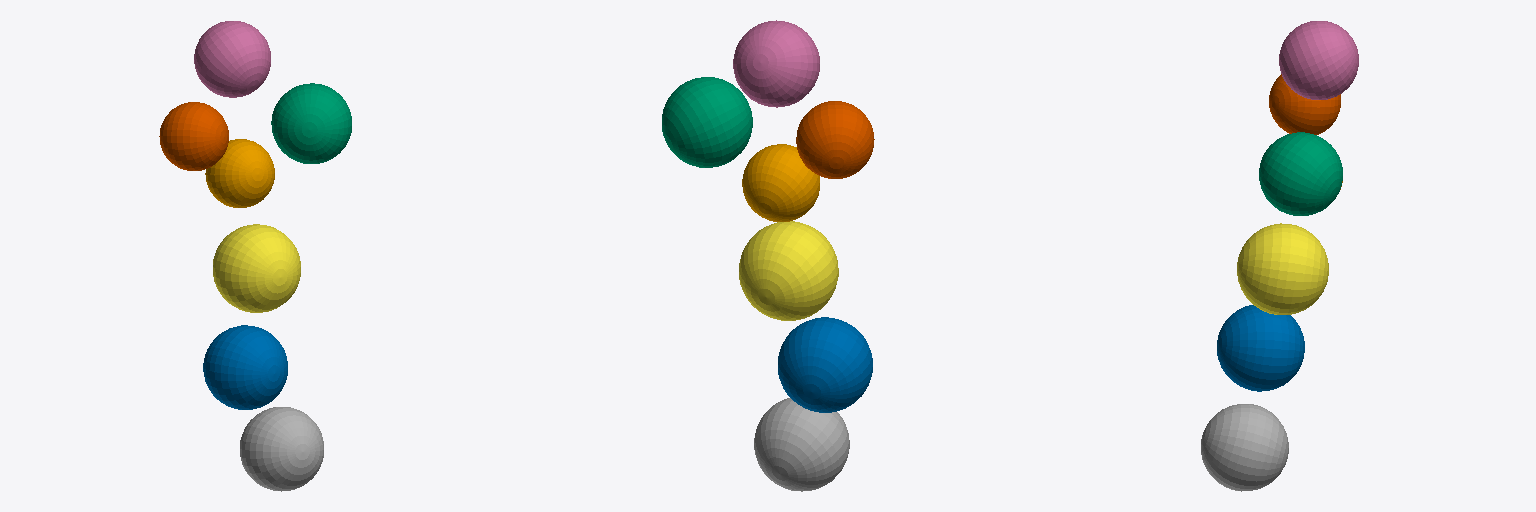
URDF robot description (link5):
<?xml version="1.0" ?>
<!-- =================================================================================== -->
<!-- |    This document was autogenerated by xacro from link5_2.xacro                  | -->
<!-- |    EDITING THIS FILE BY HAND IS NOT RECOMMENDED                                 | -->
<!-- =================================================================================== -->
<robot name="link5">
  <!-- [m] -->
  <link name="calibration_link5/base_link"/>
  <joint name="calibration_link5/base_joint" type="fixed">
    <origin rpy="0 0 0" xyz="0 0 0"/>
    <parent link="calibration_link5/base_link"/>
    <child link="calibration_link5/base_link_inertia"/>
  </joint>
  <link name="calibration_link5/base_link_inertia">
    <visual>
      <origin rpy="0 0 0" xyz="0 0 0"/>
      <geometry>
        <mesh filename="https://cdn.jsdelivr.net/gh/cKohl10/gentact_ros_tools@main/meshes/link5_2.stl" scale="1 1 1"/>
      </geometry>
    </visual>
  </link>
  <joint name="calibration_link5/sensor_0_joint" type="fixed">
    <origin rpy="1.856 -0.000 2.558" xyz="0.034 0.127 -0.019"/>
    <axis xyz="0.529 0.801 -0.281"/>
    <parent link="calibration_link5/base_link"/>
    <child link="calibration_link5/sensor_0"/>
  </joint>
  <link name="calibration_link5/sensor_0">
    <visual>
      <geometry>
        <sphere radius="0.021"/>
        <!-- [m] -->
      </geometry>
    </visual>
    <collision>
      <geometry>
        <sphere radius="0.021"/>
        <!-- [m] -->
      </geometry>
    </collision>
  </link>
  <joint name="calibration_link5/sensor_1_joint" type="fixed">
    <origin rpy="-1.403 3.142 0.049" xyz="-0.004 0.118 -0.089"/>
    <axis xyz="-0.049 0.985 -0.167"/>
    <parent link="calibration_link5/base_link"/>
    <child link="calibration_link5/sensor_1"/>
  </joint>
  <link name="calibration_link5/sensor_1">
    <visual>
      <geometry>
        <sphere radius="0.023"/>
        <!-- [m] -->
      </geometry>
    </visual>
    <collision>
      <geometry>
        <sphere radius="0.023"/>
        <!-- [m] -->
      </geometry>
    </collision>
  </link>
  <joint name="calibration_link5/sensor_2_joint" type="fixed">
    <origin rpy="1.754 0.000 -2.905" xyz="-0.017 0.107 -0.138"/>
    <axis xyz="-0.23 0.956 -0.182"/>
    <parent link="calibration_link5/base_link"/>
    <child link="calibration_link5/sensor_2"/>
  </joint>
  <link name="calibration_link5/sensor_2">
    <visual>
      <geometry>
        <sphere radius="0.022"/>
        <!-- [m] -->
      </geometry>
    </visual>
    <collision>
      <geometry>
        <sphere radius="0.022"/>
        <!-- [m] -->
      </geometry>
    </collision>
  </link>
  <joint name="calibration_link5/sensor_3_joint" type="fixed">
    <origin rpy="1.772 -0.000 -2.583" xyz="-0.035 0.129 -0.011"/>
    <axis xyz="-0.519 0.831 -0.2"/>
    <parent link="calibration_link5/base_link"/>
    <child link="calibration_link5/sensor_3"/>
  </joint>
  <link name="calibration_link5/sensor_3">
    <visual>
      <geometry>
        <sphere radius="0.018"/>
        <!-- [m] -->
      </geometry>
    </visual>
    <collision>
      <geometry>
        <sphere radius="0.018"/>
        <!-- [m] -->
      </geometry>
    </collision>
  </link>
  <joint name="calibration_link5/sensor_4_joint" type="fixed">
    <origin rpy="1.135 -0.000 -3.039" xyz="-0.008 0.136 0.024"/>
    <axis xyz="-0.093 0.902 0.423"/>
    <parent link="calibration_link5/base_link"/>
    <child link="calibration_link5/sensor_4"/>
  </joint>
  <link name="calibration_link5/sensor_4">
    <visual>
      <geometry>
        <sphere radius="0.02"/>
        <!-- [m] -->
      </geometry>
    </visual>
    <collision>
      <geometry>
        <sphere radius="0.02"/>
        <!-- [m] -->
      </geometry>
    </collision>
  </link>
  <joint name="calibration_link5/sensor_5_joint" type="fixed">
    <origin rpy="-1.262 3.142 0.019" xyz="-0.000 0.099 -0.185"/>
    <axis xyz="-0.018 0.952 -0.304"/>
    <parent link="calibration_link5/base_link"/>
    <child link="calibration_link5/sensor_5"/>
  </joint>
  <link name="calibration_link5/sensor_5">
    <visual>
      <geometry>
        <sphere radius="0.022"/>
        <!-- [m] -->
      </geometry>
    </visual>
    <collision>
      <geometry>
        <sphere radius="0.022"/>
        <!-- [m] -->
      </geometry>
    </collision>
  </link>
  <joint name="calibration_link5/sensor_6_joint" type="fixed">
    <origin rpy="-1.229 3.142 0.054" xyz="-0.007 0.130 -0.039"/>
    <axis xyz="-0.051 0.941 -0.335"/>
    <parent link="calibration_link5/base_link"/>
    <child link="calibration_link5/sensor_6"/>
  </joint>
  <link name="calibration_link5/sensor_6">
    <visual>
      <geometry>
        <sphere radius="0.018"/>
        <!-- [m] -->
      </geometry>
    </visual>
    <collision>
      <geometry>
        <sphere radius="0.018"/>
        <!-- [m] -->
      </geometry>
    </collision>
  </link>
</robot>

--- Render facts (derived) ---
3 views of the same robot in one strip: view 1: azimuth 30°, elevation 25°; view 2: azimuth 150°, elevation 25°; view 3: azimuth 270°, elevation 25° (orthographic).
Robot: link5 — 9 links, 8 joints (8 fixed); root link calibration_link5/base_link; default pose: all joints at 0.
Links seen in each view (by area): view 1: calibration_link5/sensor_1, calibration_link5/sensor_2, calibration_link5/sensor_5, calibration_link5/sensor_0, calibration_link5/sensor_4, calibration_link5/sensor_3, calibration_link5/sensor_6; view 2: calibration_link5/sensor_1, calibration_link5/sensor_2, calibration_link5/sensor_5, calibration_link5/sensor_0, calibration_link5/sensor_4, calibration_link5/sensor_3, calibration_link5/sensor_6; view 3: calibration_link5/sensor_1, calibration_link5/sensor_5, calibration_link5/sensor_2, calibration_link5/sensor_0, calibration_link5/sensor_4, calibration_link5/sensor_3.
Boxes of the visible links, x1,y1,x2,y2 form: calibration_link5/sensor_1: (213,224,300,312); calibration_link5/sensor_2: (203,325,287,409); calibration_link5/sensor_5: (240,407,323,491); calibration_link5/sensor_0: (271,83,351,163); calibration_link5/sensor_4: (194,21,270,97); calibration_link5/sensor_3: (159,102,228,170); calibration_link5/sensor_6: (205,139,274,207); calibration_link5/sensor_1: (739,221,838,320); calibration_link5/sensor_2: (778,317,872,412); calibration_link5/sensor_5: (754,398,849,491); calibration_link5/sensor_0: (662,77,752,167); calibration_link5/sensor_4: (733,20,819,107); calibration_link5/sensor_3: (796,101,874,178); calibration_link5/sensor_6: (742,144,819,221); calibration_link5/sensor_1: (1237,223,1328,314); calibration_link5/sensor_5: (1201,404,1288,491); calibration_link5/sensor_2: (1217,305,1304,391); calibration_link5/sensor_0: (1259,132,1342,215); calibration_link5/sensor_4: (1279,21,1358,99); calibration_link5/sensor_3: (1269,74,1340,134).
Size in the robot's own frame: 0.1079 by 0.0789 by 0.2509 metres.
Geometry: only primitive shapes (box / cylinder / sphere) drawn; not drawn: 1 mesh visual (reference in a form the renderer does not follow).
